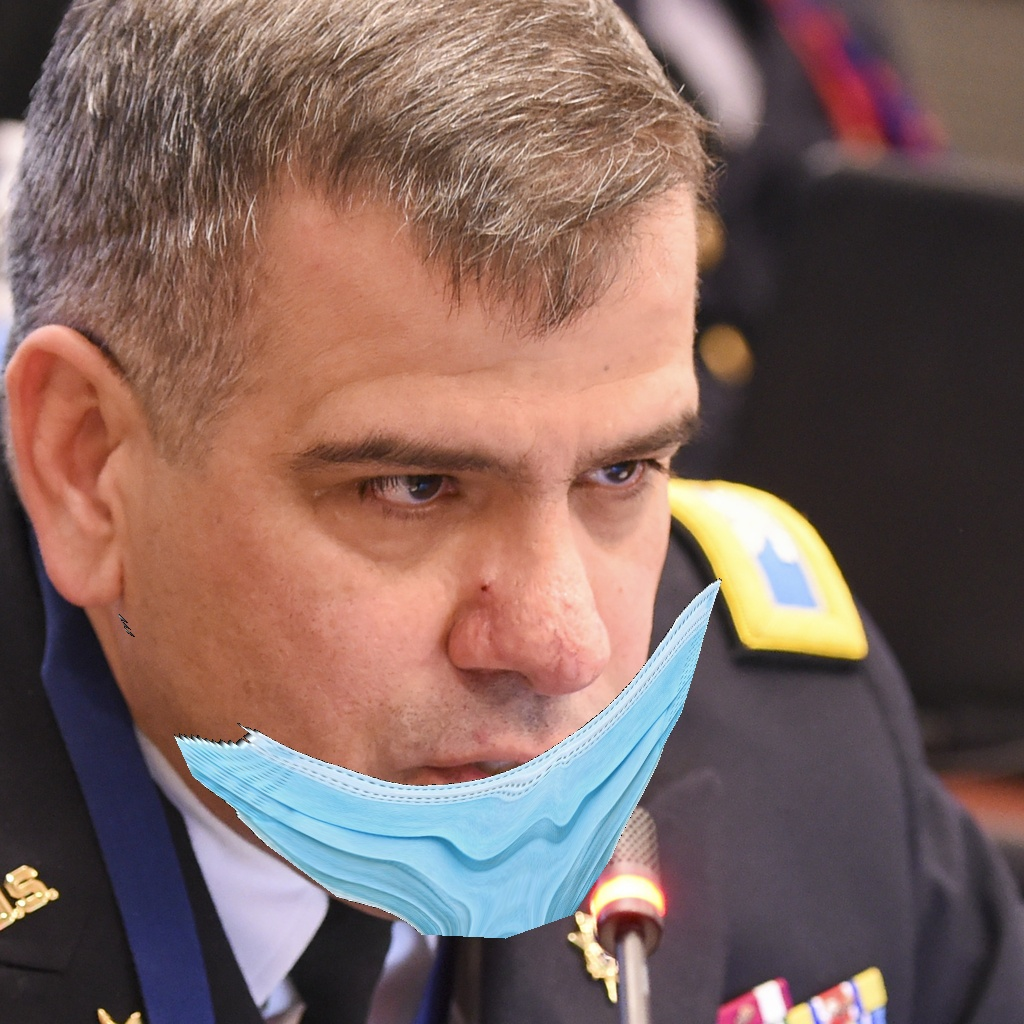Mask_Mouth_Chin: (164, 348, 724, 936)
